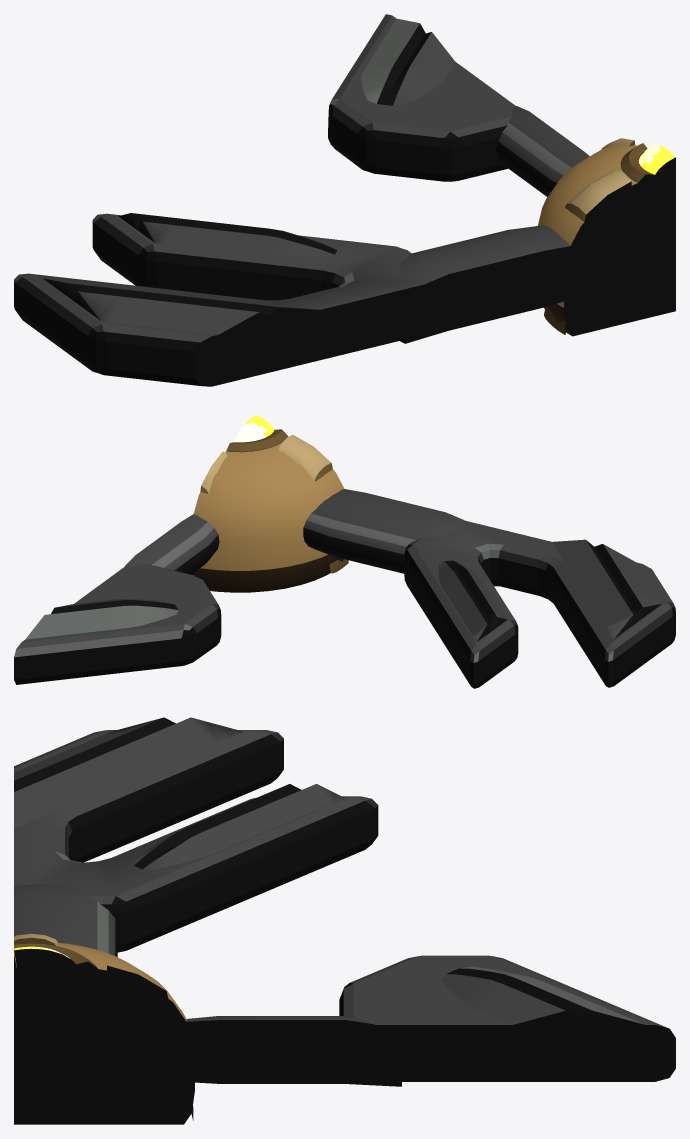
Rendered from spin_claw_85.glb.
3 renders of one model, top to bottom at view 1: azimuth 30°, elevation 25°; view 2: azimuth 150°, elevation 25°; view 3: azimuth 270°, elevation 25°, orthographic. The views are drawn at different scales.
Visible parts, largest first — view 1: spin_claw_85_arm3_plate, spin_claw_85_arm0_plate, spin_claw_85_hub_dome, spin_claw_85_arm3_rod, spin_claw_85_arm3_ridge0, spin_claw_85_arm0_ridge0, spin_claw_85_arm3_ridge1, spin_claw_85_arm0_rod, spin_claw_85_hub_rib3, spin_claw_85_hub_lens, spin_claw_85_hub_bezel; view 2: spin_claw_85_arm3_plate, spin_claw_85_hub_dome, spin_claw_85_arm0_plate, spin_claw_85_arm3_rod, spin_claw_85_arm3_ridge0, spin_claw_85_arm0_ridge0, spin_claw_85_arm0_rod, spin_claw_85_arm3_ridge1, spin_claw_85_hub_rib3, spin_claw_85_hub_lens, spin_claw_85_hub_bezel; view 3: spin_claw_85_arm3_plate, spin_claw_85_arm0_plate, spin_claw_85_hub_dome, spin_claw_85_arm0_rod, spin_claw_85_arm3_ridge0, spin_claw_85_arm0_ridge0, spin_claw_85_arm3_ridge1, spin_claw_85_arm3_rod, spin_claw_85_hub_lens, spin_claw_85_hub_bezel, spin_claw_85_hub_rib0.
Part boxes in pixels (x1,y1,x2,y2): spin_claw_85_arm3_plate: (14,213,453,386); spin_claw_85_arm0_plate: (328,14,515,181); spin_claw_85_hub_dome: (537,145,675,336); spin_claw_85_arm3_rod: (400,225,607,343); spin_claw_85_arm3_ridge0: (43,278,329,345); spin_claw_85_arm0_ridge0: (361,18,454,105); spin_claw_85_arm3_ridge1: (118,213,337,257); spin_claw_85_arm0_rod: (496,106,589,196); spin_claw_85_hub_rib3: (544,170,631,334); spin_claw_85_hub_lens: (638,145,675,191); spin_claw_85_hub_bezel: (620,143,675,191); spin_claw_85_arm3_plate: (404,520,675,688); spin_claw_85_hub_dome: (191,436,344,592); spin_claw_85_arm0_plate: (14,564,221,684); spin_claw_85_arm3_rod: (303,489,464,573); spin_claw_85_arm3_ridge0: (552,539,662,638); spin_claw_85_arm0_ridge0: (25,599,178,639); spin_claw_85_arm0_rod: (124,514,219,574); spin_claw_85_arm3_ridge1: (438,560,507,641); spin_claw_85_hub_rib3: (278,435,348,573); spin_claw_85_hub_lens: (234,415,274,442); spin_claw_85_hub_bezel: (226,429,288,452); spin_claw_85_arm3_plate: (14,730,378,952); spin_claw_85_arm0_plate: (339,955,675,1081); spin_claw_85_hub_dome: (14,942,194,1124); spin_claw_85_arm0_rod: (138,1016,401,1086); spin_claw_85_arm3_ridge0: (14,717,243,828); spin_claw_85_arm0_ridge0: (441,966,658,1035); spin_claw_85_arm3_ridge1: (132,784,344,869); spin_claw_85_arm3_rod: (14,884,117,956); spin_claw_85_hub_lens: (14,946,78,982); spin_claw_85_hub_bezel: (14,943,97,979); spin_claw_85_hub_rib0: (107,965,193,1120).
Bounding box in the file's own units: 20.38 × 5.56 × 18.97.
